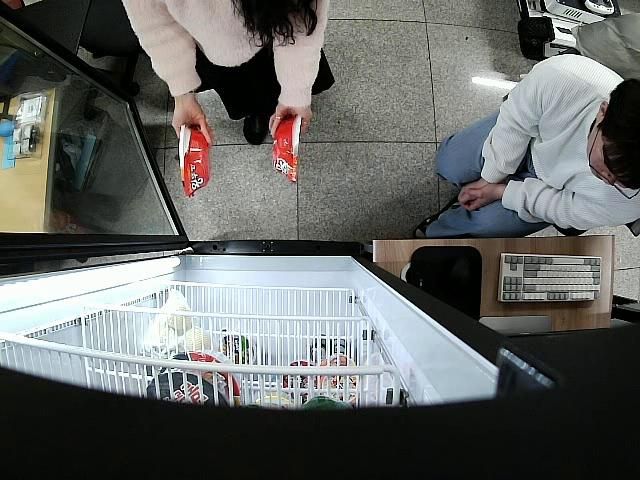00_hand: (171, 97, 216, 149), (270, 103, 314, 139)
10_wangTtukkeong: (176, 123, 211, 199), (270, 115, 301, 185)
